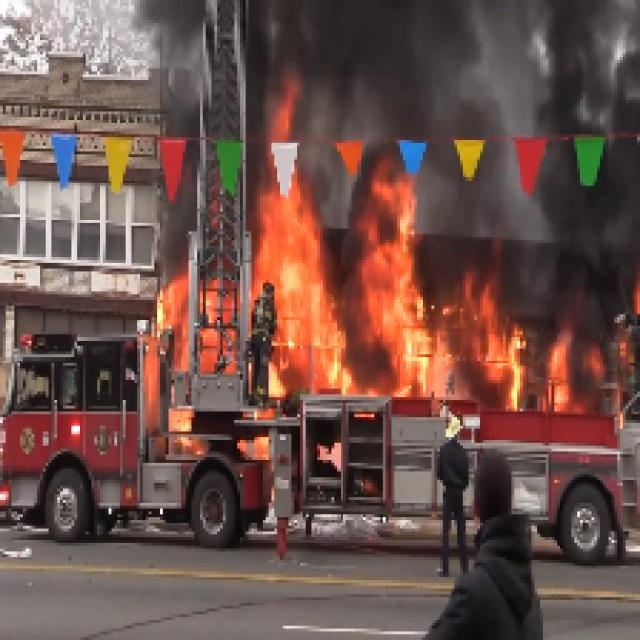Fire: (246, 186, 332, 401), (352, 236, 430, 402)
Smoke: (276, 10, 621, 220)
